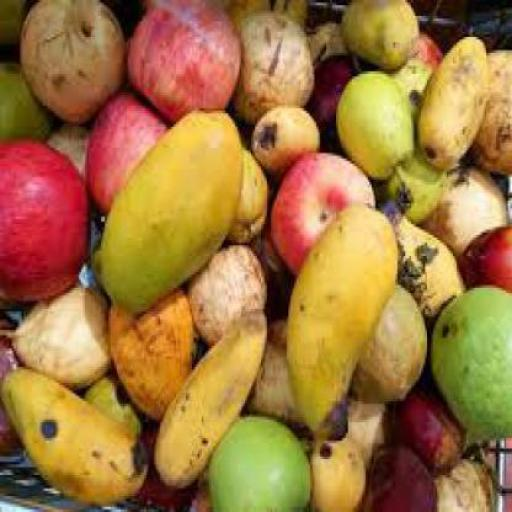biodegradable: (87, 102, 243, 310), (280, 198, 398, 432), (150, 306, 265, 488), (0, 363, 146, 501), (0, 136, 90, 302), (375, 29, 453, 211), (122, 0, 240, 117), (18, 0, 125, 124), (105, 282, 194, 426), (269, 145, 371, 267), (0, 282, 110, 394), (427, 285, 510, 430), (79, 82, 166, 211), (384, 192, 462, 320), (207, 414, 311, 510), (334, 66, 413, 188), (346, 278, 423, 396), (415, 32, 486, 158), (186, 240, 267, 341), (233, 10, 311, 108), (417, 161, 504, 248), (247, 317, 311, 428), (124, 420, 198, 510), (390, 380, 464, 467), (217, 119, 265, 243), (466, 45, 510, 167), (304, 427, 366, 510), (338, 0, 418, 64), (0, 309, 34, 458), (364, 440, 432, 510), (306, 52, 356, 138), (249, 102, 321, 160), (455, 219, 510, 288), (342, 390, 396, 459), (79, 372, 140, 433), (434, 446, 492, 510), (0, 58, 46, 138), (45, 121, 89, 174), (304, 18, 348, 58), (219, 0, 306, 18), (0, 0, 28, 48), (182, 475, 217, 510)
